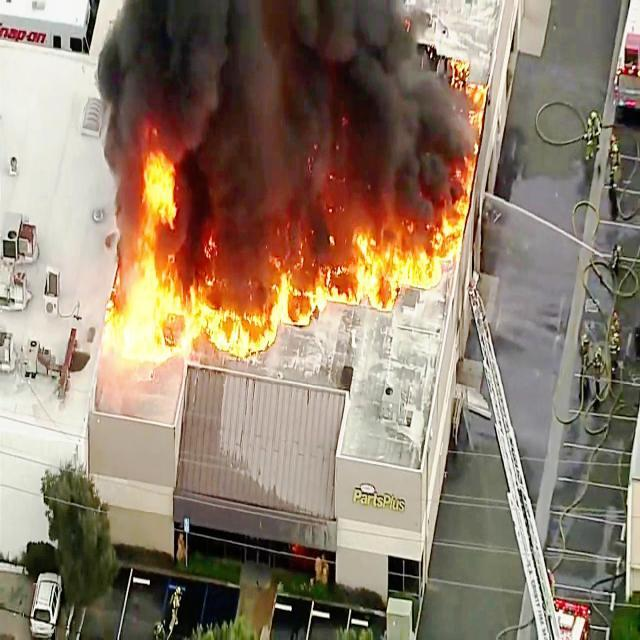Fire: (107, 162, 175, 370), (190, 260, 294, 358), (304, 243, 384, 316), (393, 240, 446, 296)
Smoke: (125, 0, 415, 176)
